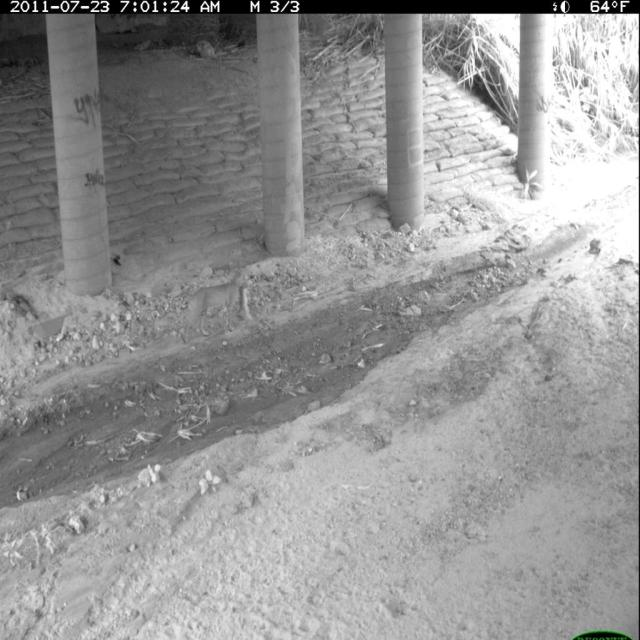bobcat: (180, 263, 251, 348)
rabbit: (238, 280, 252, 323)
